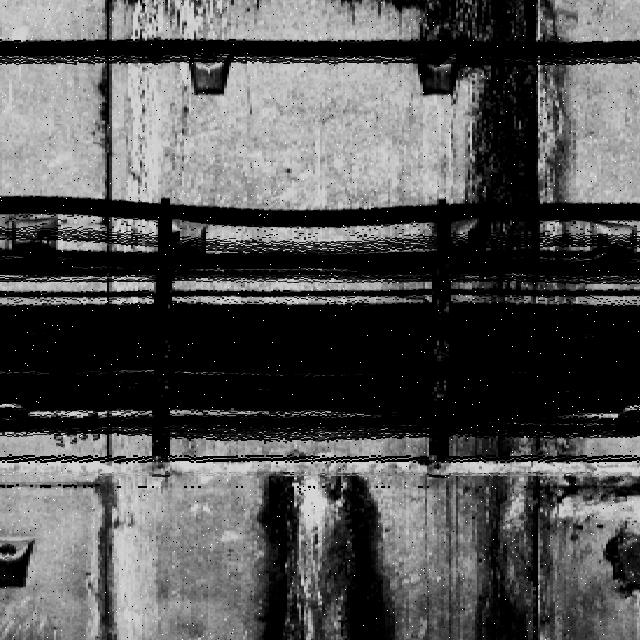leakage: (428, 1, 592, 304), (243, 471, 408, 640), (471, 439, 571, 640), (80, 476, 135, 640)
